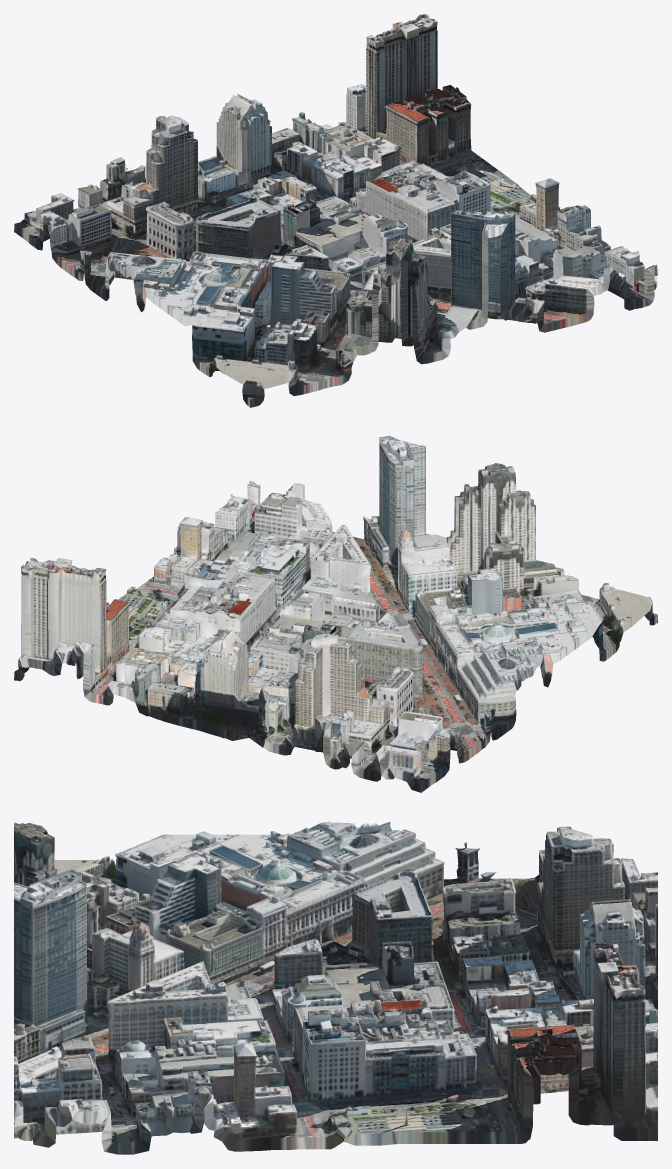
Rendered from z16-10484-25328-h0-yup-uvflip-v3-world.glb.
The picture shows the model from 3 angles, top to bottom: view 1: azimuth 30°, elevation 25°; view 2: azimuth 150°, elevation 25°; view 3: azimuth 270°, elevation 25°; orthographic projection. The views are drawn at different scales.
Bounding box in the file's own units: 484 × 146 × 485.
1 material, 1 textured.
